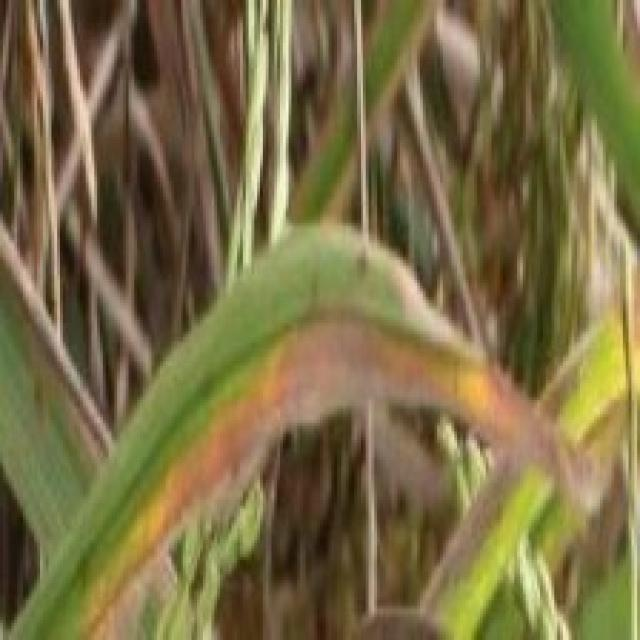Rice___Bacterial_Leaf_Blight: (1, 220, 611, 637)
